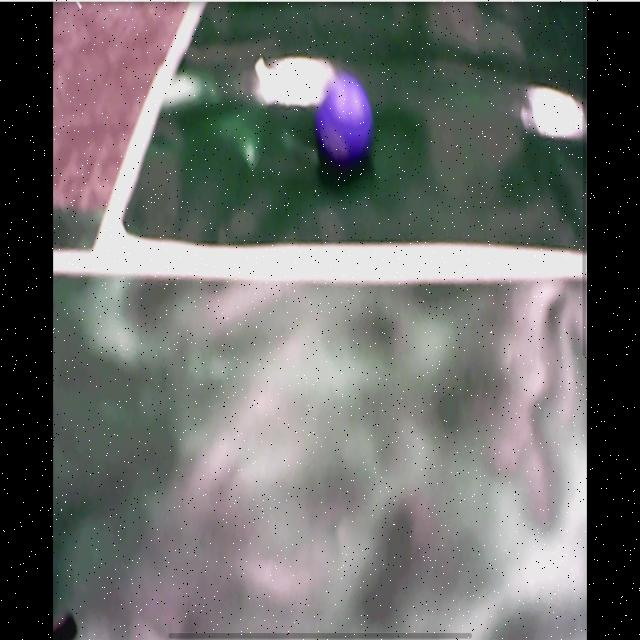ball: (315, 75, 371, 161)
